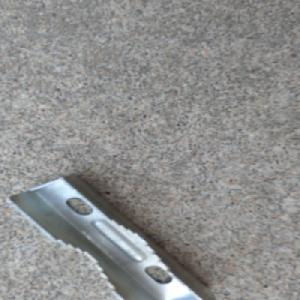ClampPart: (5, 169, 215, 300)
